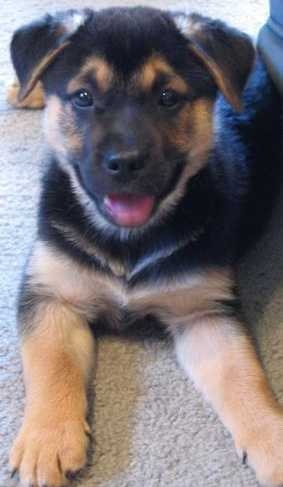dog: (0, 5, 278, 474)
